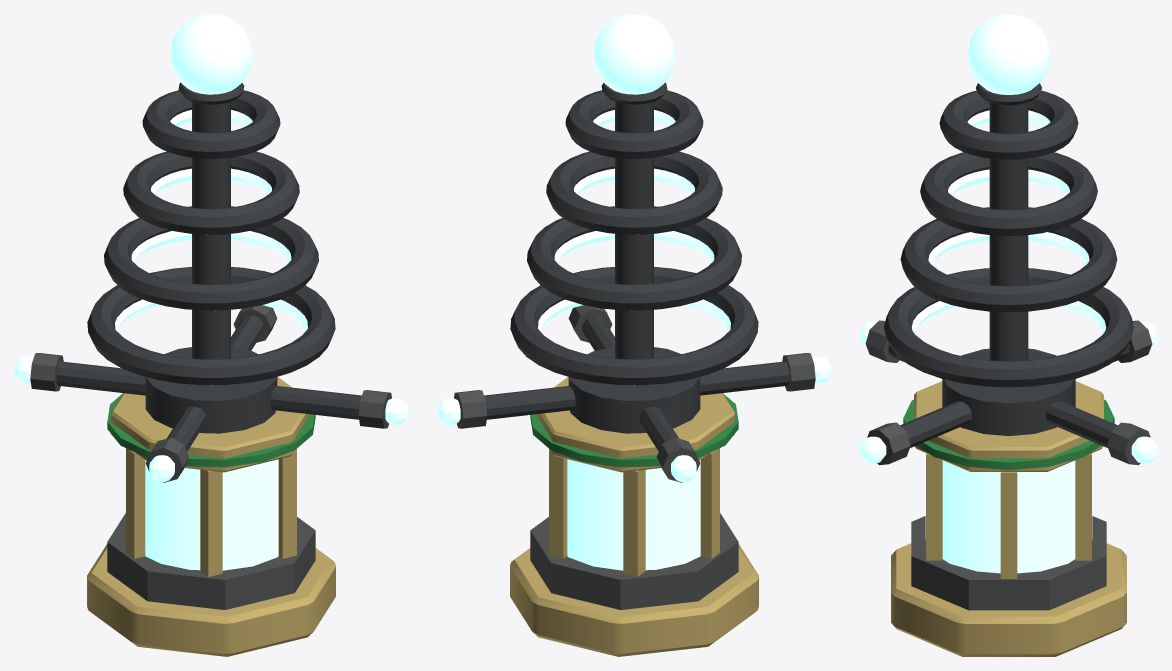
The model's file is tesla.glb.
3 renders of one model, left to right at view 1: azimuth 30°, elevation 25°; view 2: azimuth 150°, elevation 25°; view 3: azimuth 270°, elevation 25°, orthographic.
Visible parts, largest first — view 1: Tesla_Walls, Tesla_Frame, Tesla_Foundation, Tesla_Details, Tesla_head; view 2: Tesla_Walls, Tesla_Frame, Tesla_Foundation, Tesla_Details, Tesla_head; view 3: Tesla_Walls, Tesla_Frame, Tesla_Foundation, Tesla_Details, Tesla_head.
Boxes of the visible parts, <box> form: Tesla_Walls: <box>87,90,335,570</box>; Tesla_Frame: <box>110,101,309,576</box>; Tesla_Foundation: <box>87,513,335,656</box>; Tesla_Details: <box>14,110,408,482</box>; Tesla_head: <box>170,14,252,104</box>; Tesla_Walls: <box>510,90,758,570</box>; Tesla_Frame: <box>536,101,735,576</box>; Tesla_Foundation: <box>510,513,758,656</box>; Tesla_Details: <box>437,110,831,482</box>; Tesla_head: <box>593,14,675,104</box>; Tesla_Walls: <box>884,90,1133,573</box>; Tesla_Frame: <box>914,102,1103,578</box>; Tesla_Foundation: <box>891,516,1126,656</box>; Tesla_Details: <box>860,110,1157,470</box>; Tesla_head: <box>967,14,1050,105</box>.
Bounding box in the file's own units: 1.07 × 2.35 × 1.07.
